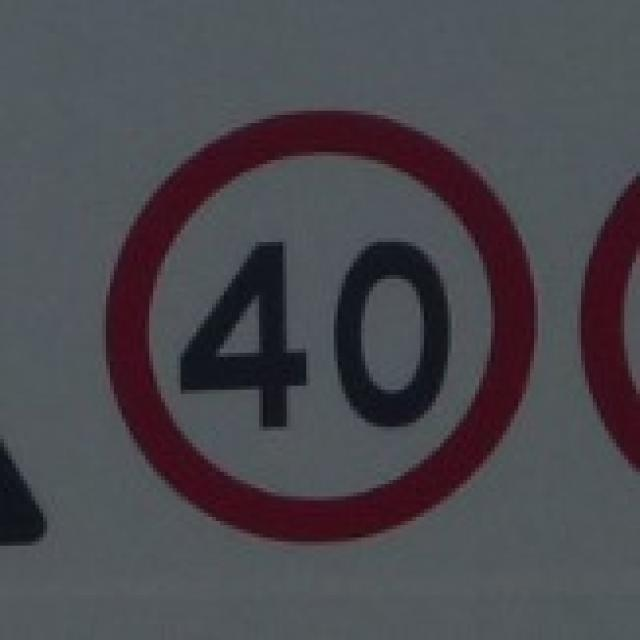Speed Limit -40-: (176, 233, 454, 432)
